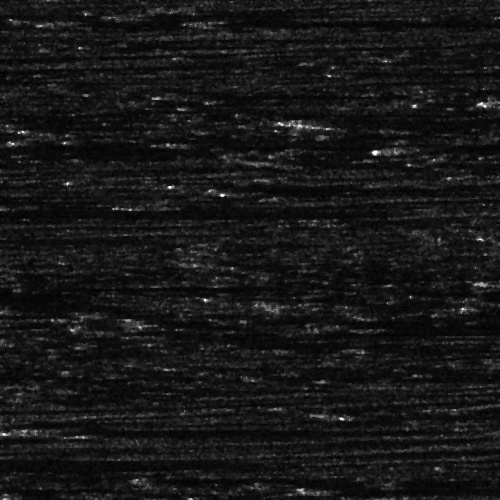object: (131, 128, 214, 155), (287, 102, 318, 137), (375, 145, 468, 152), (440, 97, 500, 106), (173, 90, 204, 101), (11, 427, 52, 434), (0, 144, 30, 153), (287, 486, 328, 489), (232, 184, 243, 195), (476, 279, 500, 284), (313, 410, 334, 415)
shadow: (303, 102, 500, 137), (173, 128, 323, 155), (0, 204, 301, 217), (238, 184, 467, 195), (32, 427, 342, 434), (0, 457, 173, 466), (189, 90, 263, 101), (0, 208, 235, 211), (0, 191, 88, 198), (308, 486, 500, 489), (422, 145, 500, 152), (0, 144, 49, 153), (324, 410, 407, 415), (0, 196, 48, 203)
